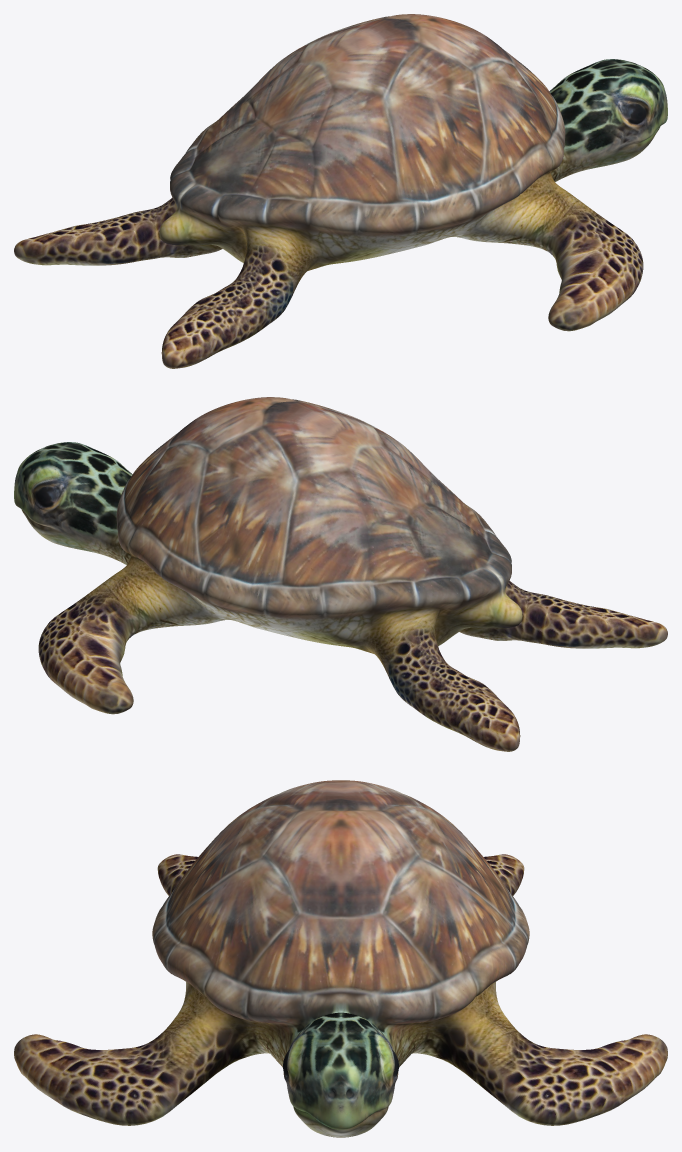
Rendered from penyu.glb.
3 views of the same model, one above another, from view 1: azimuth 30°, elevation 25°; view 2: azimuth 150°, elevation 25°; view 3: azimuth 270°, elevation 25° (orthographic). The views are drawn at different scales.
Parts seen in each view (by area): view 1: 20446_Sea_Turtle_v1_Textured; view 2: 20446_Sea_Turtle_v1_Textured; view 3: 20446_Sea_Turtle_v1_Textured.
Boxes of the visible parts, x1,y1,x2,y2 form: 20446_Sea_Turtle_v1_Textured: (14, 14, 667, 368); 20446_Sea_Turtle_v1_Textured: (14, 397, 667, 751); 20446_Sea_Turtle_v1_Textured: (14, 780, 667, 1137).
Size of the model in its own units: 10.88 by 3.97 by 9.26.
Materials: 1 (1 with a texture image).
